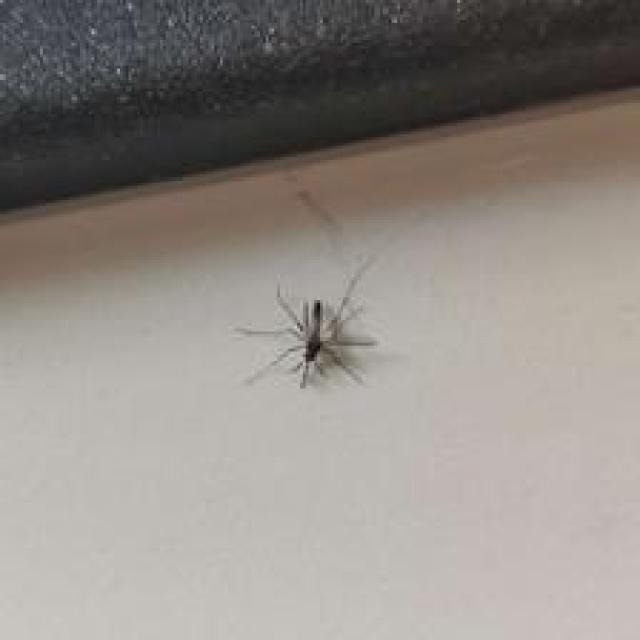Aedes albopictus: (233, 254, 381, 392)
